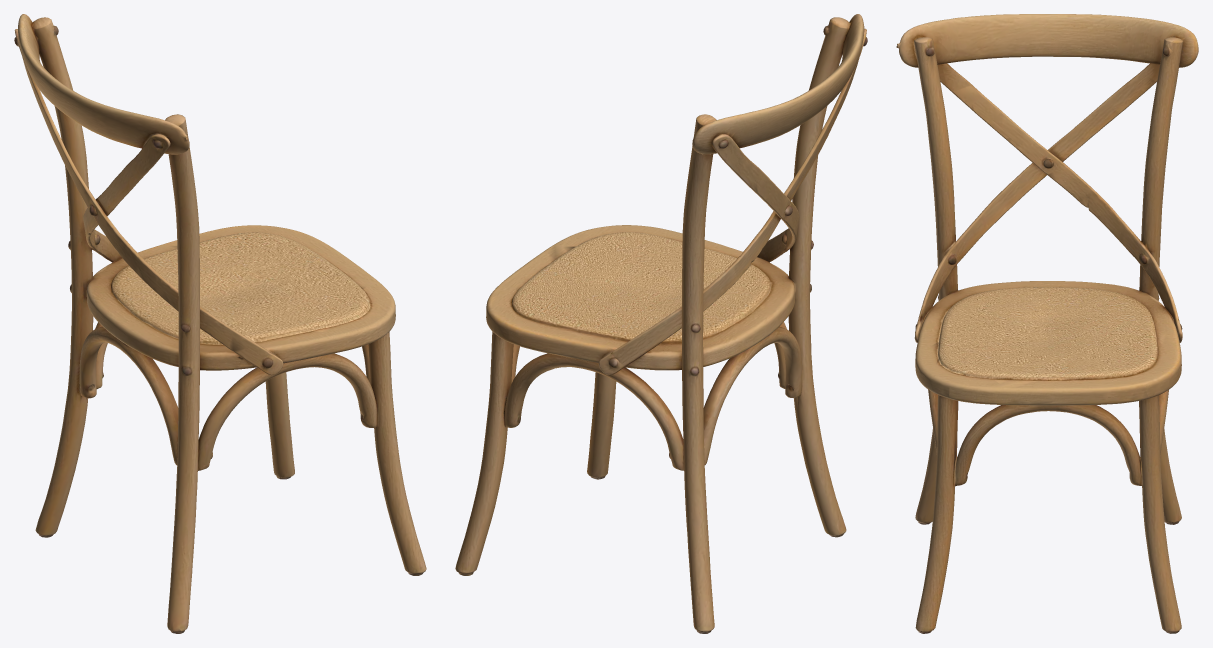
Rendered from crosschair.glb.
The picture shows the model from 3 angles, left to right: view 1: azimuth 30°, elevation 25°; view 2: azimuth 150°, elevation 25°; view 3: azimuth 270°, elevation 25°; orthographic projection. The views are drawn at different scales.
Visible parts, largest first — view 1: tripo_node_8f692491-35f1-4523-99ed-75fe140af87d; view 2: tripo_node_8f692491-35f1-4523-99ed-75fe140af87d; view 3: tripo_node_8f692491-35f1-4523-99ed-75fe140af87d.
Part boxes in pixels (bbox=[...]): tripo_node_8f692491-35f1-4523-99ed-75fe140af87d: bbox=[14, 14, 426, 633]; tripo_node_8f692491-35f1-4523-99ed-75fe140af87d: bbox=[455, 14, 867, 633]; tripo_node_8f692491-35f1-4523-99ed-75fe140af87d: bbox=[896, 14, 1198, 633].
Size of the model in its own units: 0.6143 by 1 by 0.5621.
1 material, 1 textured.
